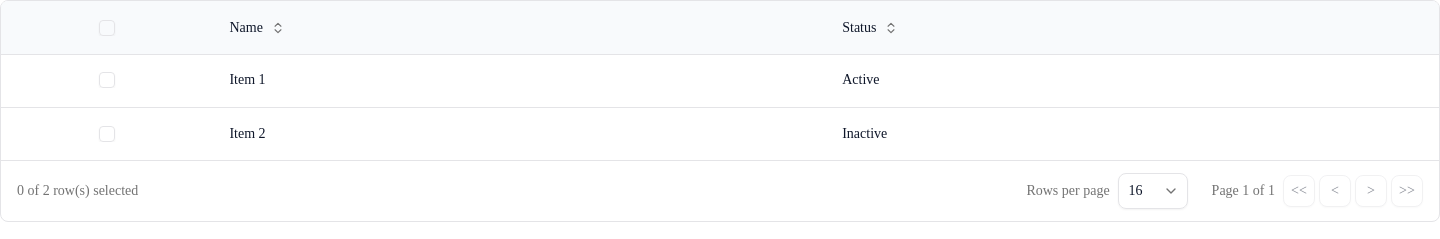
it: DataTable › handles row selection via checkboxes
Select row 1
Click the checkbox named "Select row" next to "Item 1": coordinates (107, 80) left=99, top=72, right=115, bottom=88
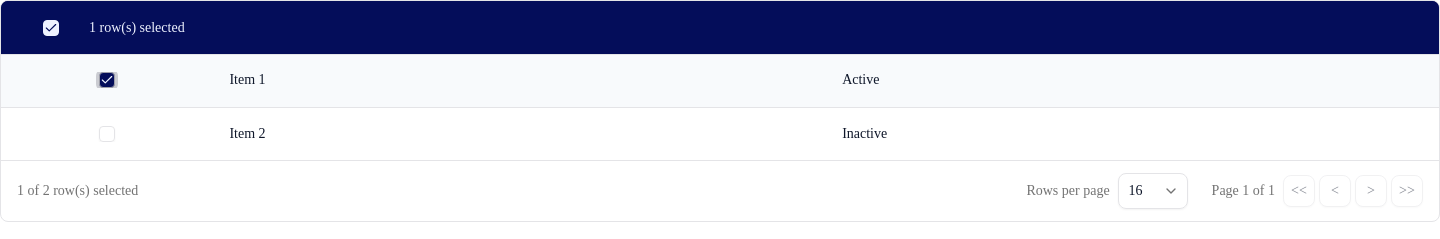
Expected: the text "1 row(s) selected" is shown, left=89, top=18, right=185, bottom=38
